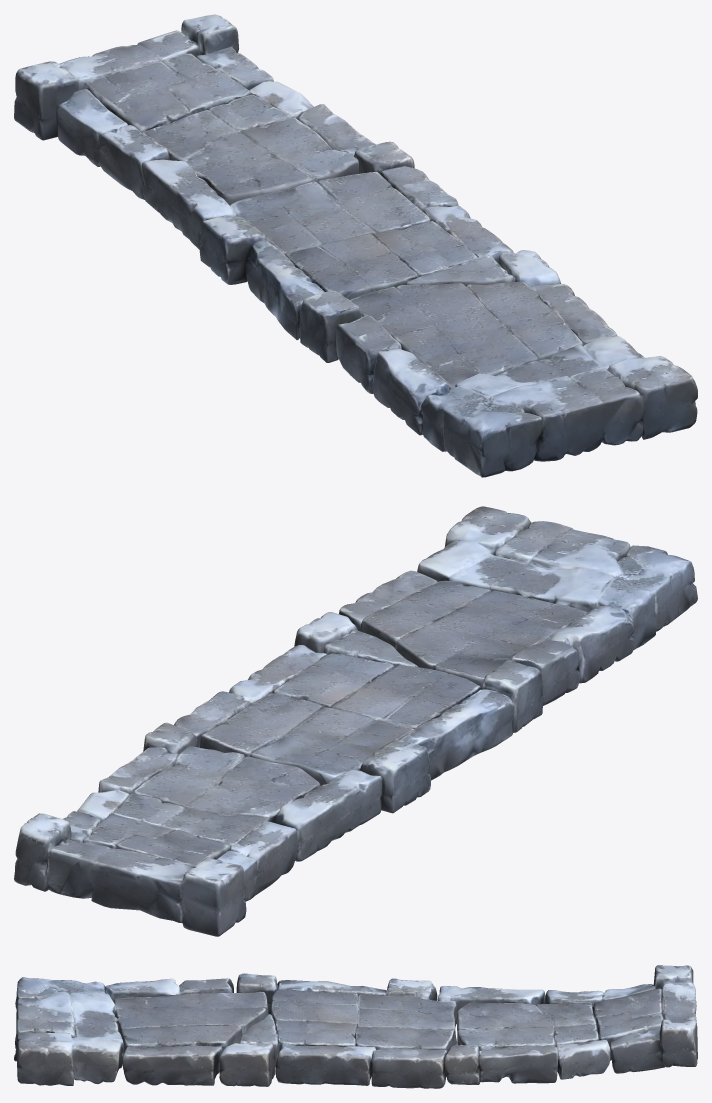
Rendered from camino.glb.
3 renders of one model, top to bottom at view 1: azimuth 30°, elevation 25°; view 2: azimuth 150°, elevation 25°; view 3: azimuth 270°, elevation 25°, orthographic. The views are drawn at different scales.
Visible parts, largest first — view 1: tripo_node_906044cb-f80f-49f8-8d2e-4dbb73d73f2c; view 2: tripo_node_906044cb-f80f-49f8-8d2e-4dbb73d73f2c; view 3: tripo_node_906044cb-f80f-49f8-8d2e-4dbb73d73f2c.
Part boxes in pixels (<box>): tripo_node_906044cb-f80f-49f8-8d2e-4dbb73d73f2c: <box>14,14,697,477</box>; tripo_node_906044cb-f80f-49f8-8d2e-4dbb73d73f2c: <box>14,506,697,936</box>; tripo_node_906044cb-f80f-49f8-8d2e-4dbb73d73f2c: <box>14,965,697,1088</box>.
Size of the model in its own units: 0.2839 by 0.0899 by 0.9996.
1 material, 1 textured.
